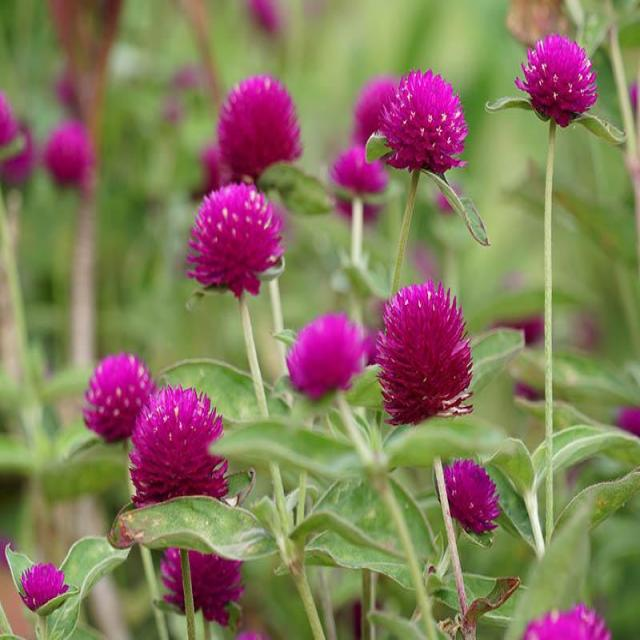organic waste: (175, 171, 299, 319), (373, 282, 482, 428), (366, 53, 468, 203), (509, 11, 604, 139), (122, 382, 228, 491), (210, 62, 316, 170), (154, 515, 252, 631), (82, 339, 160, 428), (438, 460, 509, 550), (20, 559, 80, 612)
